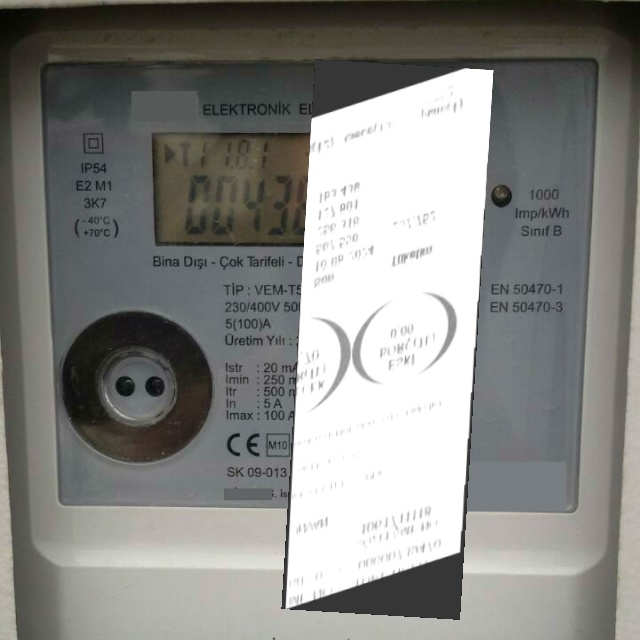electricity-bill: (281, 58, 494, 619)
